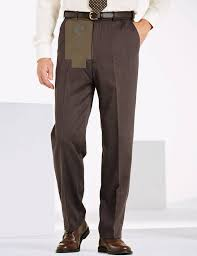F_belt: (61, 5, 140, 24)
F_dress pants: (51, 22, 143, 245)
